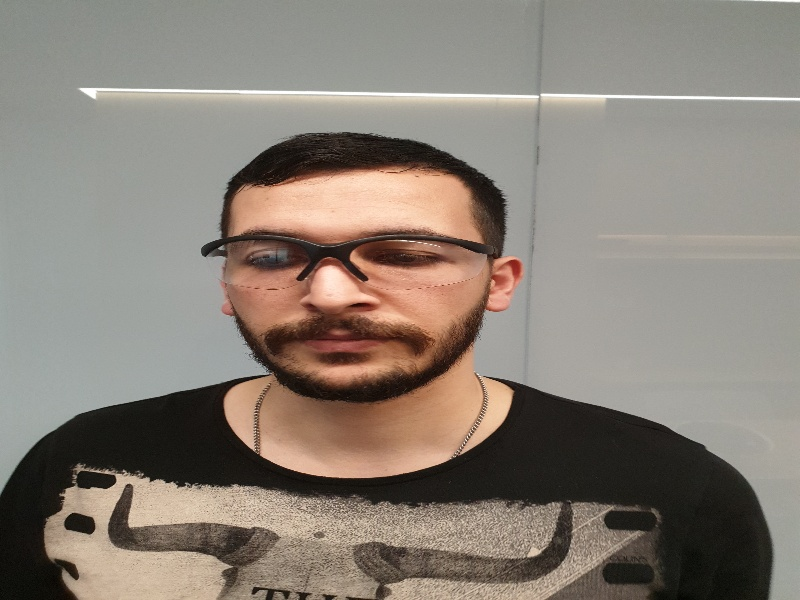Gozluk: (201, 234, 495, 296)
